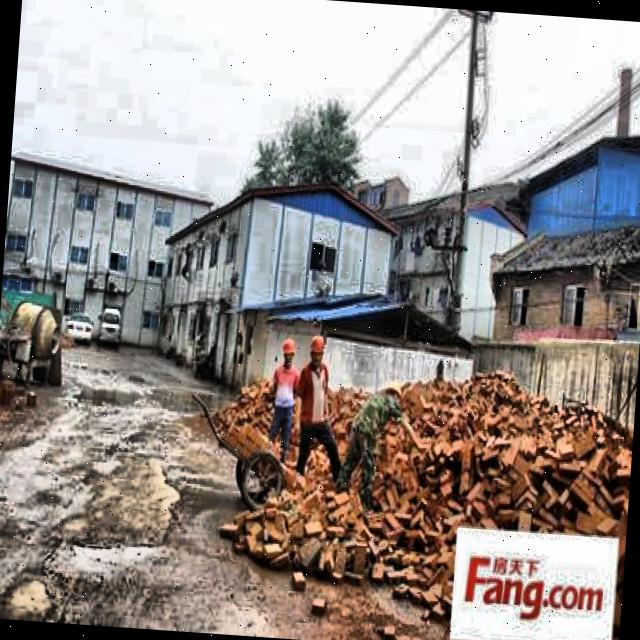helmet: (305, 329, 328, 374), (277, 336, 297, 368)
